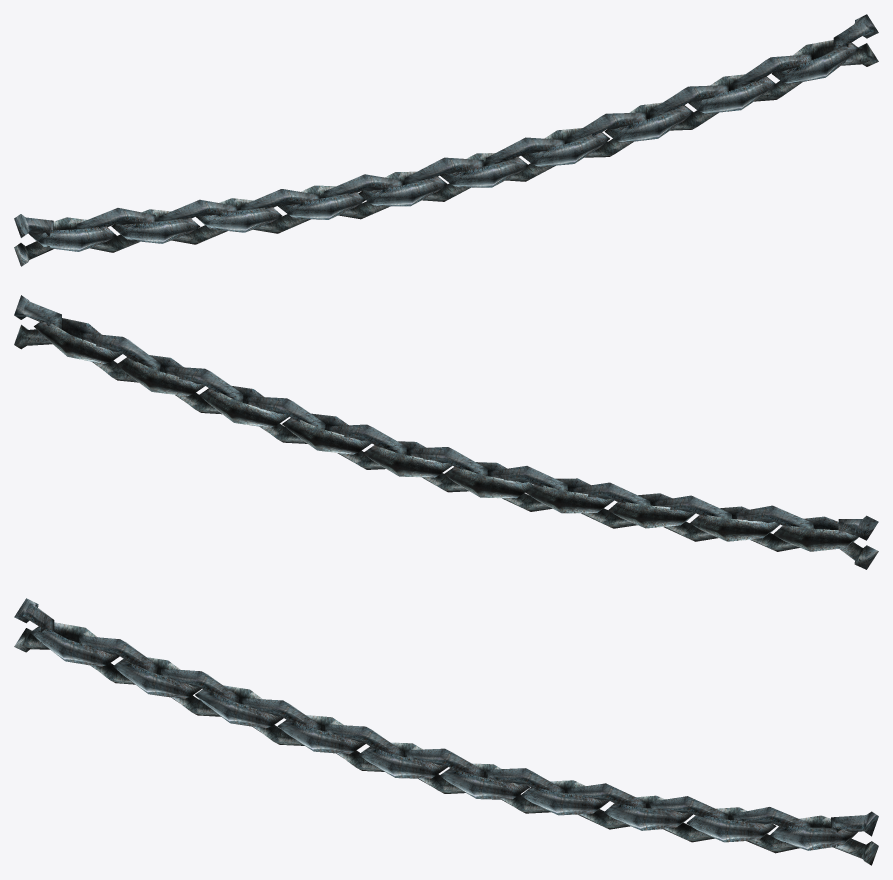
The model's file is suolianpath.FBX.
3 renders of one model, top to bottom at view 1: azimuth 30°, elevation 25°; view 2: azimuth 150°, elevation 25°; view 3: azimuth 330°, elevation 25°, orthographic. The views are drawn at different scales.
Visible parts, largest first — view 1: L12; view 2: L12; view 3: L12.
Part boxes in pixels (bbox=[...]): L12: bbox=[14, 14, 878, 266]; L12: bbox=[14, 295, 878, 569]; L12: bbox=[14, 598, 878, 865].
Bounding box in the file's own units: 988 × 98.65 × 72.07.
